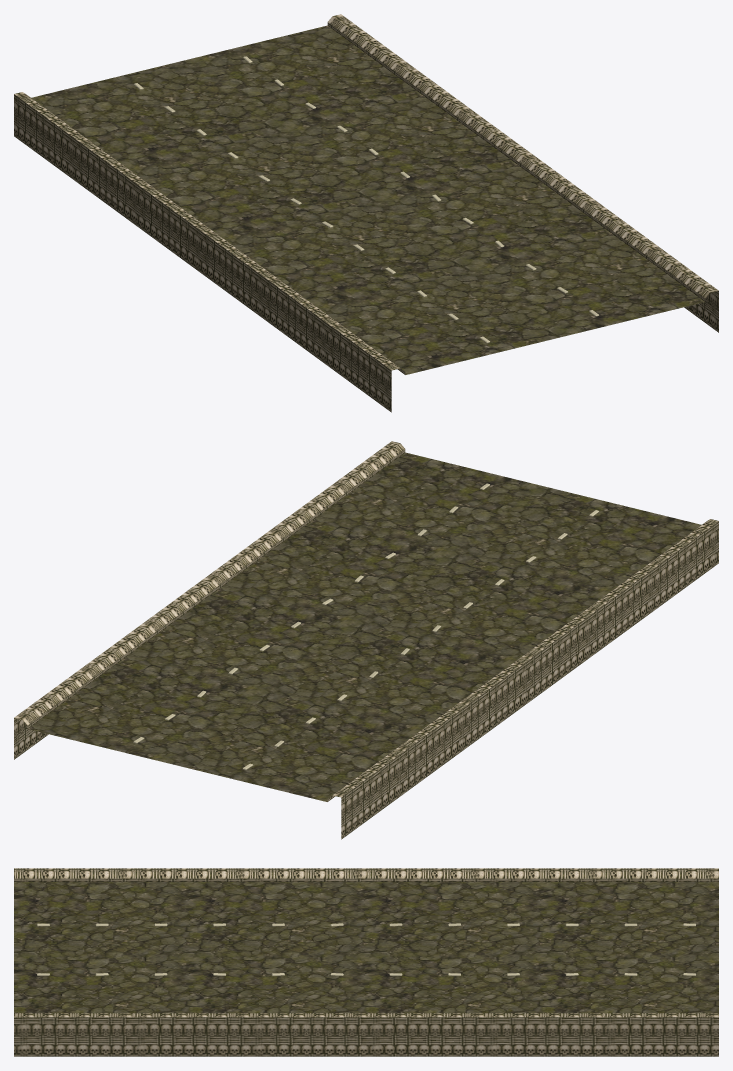
Rendered from bone_catacombs_segment.glb.
3 views of the same model, one above another, from view 1: azimuth 30°, elevation 25°; view 2: azimuth 150°, elevation 25°; view 3: azimuth 270°, elevation 25° (orthographic). The views are drawn at different scales.
Visible parts, largest first — view 1: bone_catacombs_floor, bone_catacombs_segment_trim; view 2: bone_catacombs_floor, bone_catacombs_segment_trim; view 3: bone_catacombs_floor, bone_catacombs_segment_trim.
Boxes of the visible parts, x1=… form: bone_catacombs_floor: x1=14, y1=14, x2=718, y2=412; bone_catacombs_segment_trim: x1=134, y1=56, x2=599, y2=342; bone_catacombs_floor: x1=14, y1=441, x2=718, y2=839; bone_catacombs_segment_trim: x1=133, y1=483, x2=599, y2=769; bone_catacombs_floor: x1=14, y1=868, x2=718, y2=1056; bone_catacombs_segment_trim: x1=37, y1=923, x2=696, y2=975.
Size of the model in its own units: 6 by 0.74 by 12.
4 materials, 2 textured.
